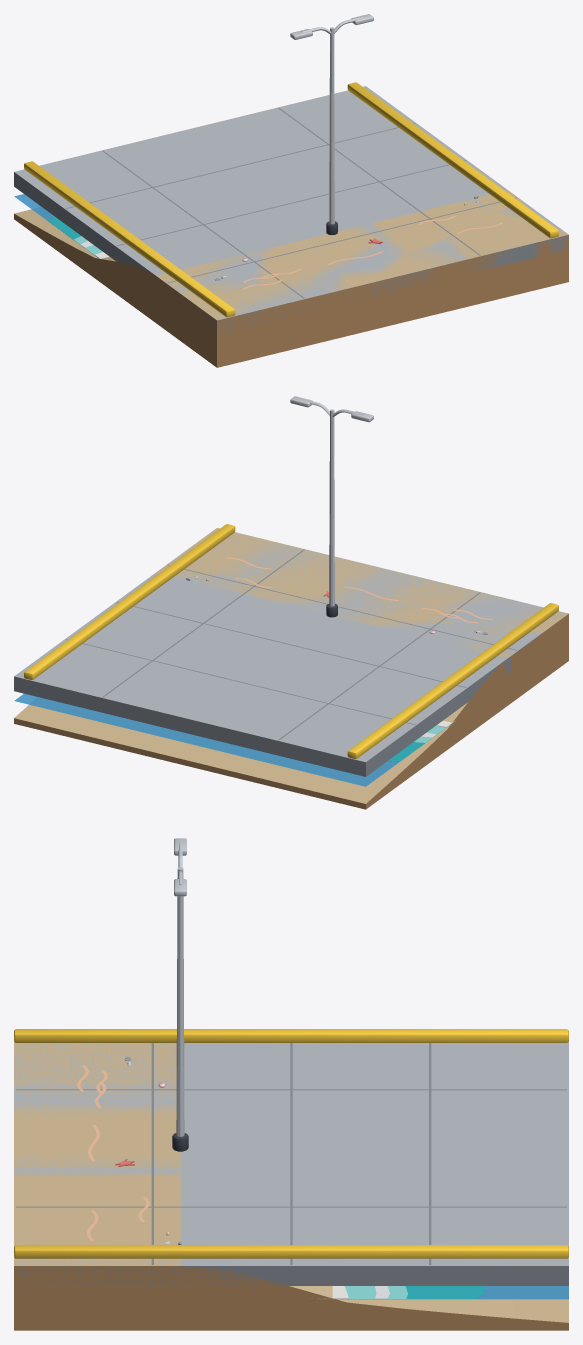
Rendered from pier_cruzeiro_acesso_areia.glb.
3 views of the same model, one above another, from view 1: azimuth 30°, elevation 25°; view 2: azimuth 150°, elevation 25°; view 3: azimuth 270°, elevation 25° (orthographic). The views are drawn at different scales.
Parts seen in each view (by area): view 1: pier_cruzeiro_acesso_areia, colisao_praia; view 2: pier_cruzeiro_acesso_areia, colisao_praia; view 3: pier_cruzeiro_acesso_areia, colisao_praia.
Part boxes in pixels (bbox=[...]): pier_cruzeiro_acesso_areia: bbox=[14, 14, 568, 367]; colisao_praia: bbox=[14, 190, 568, 366]; pier_cruzeiro_acesso_areia: bbox=[14, 396, 568, 809]; colisao_praia: bbox=[14, 528, 568, 808]; pier_cruzeiro_acesso_areia: bbox=[14, 838, 568, 1330]; colisao_praia: bbox=[14, 1042, 568, 1329].
Size of the model in its own units: 15 by 10.43 by 15.
Materials: 3 (1 with a texture image).
